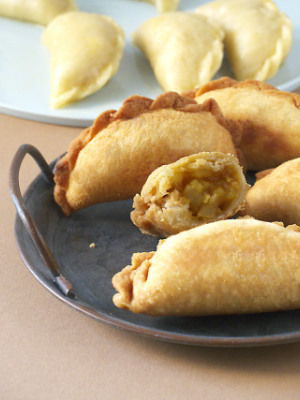Curry Puff: (39, 102, 248, 191), (108, 222, 299, 314), (128, 148, 252, 227), (35, 9, 124, 96), (201, 3, 289, 79), (137, 8, 224, 84)
